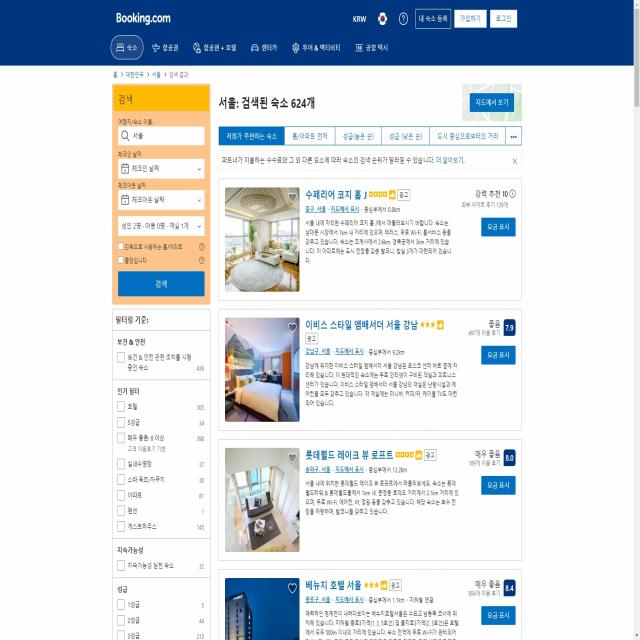menu-bar: (107, 28, 393, 62), (347, 4, 520, 31)
search: (111, 81, 212, 305)
